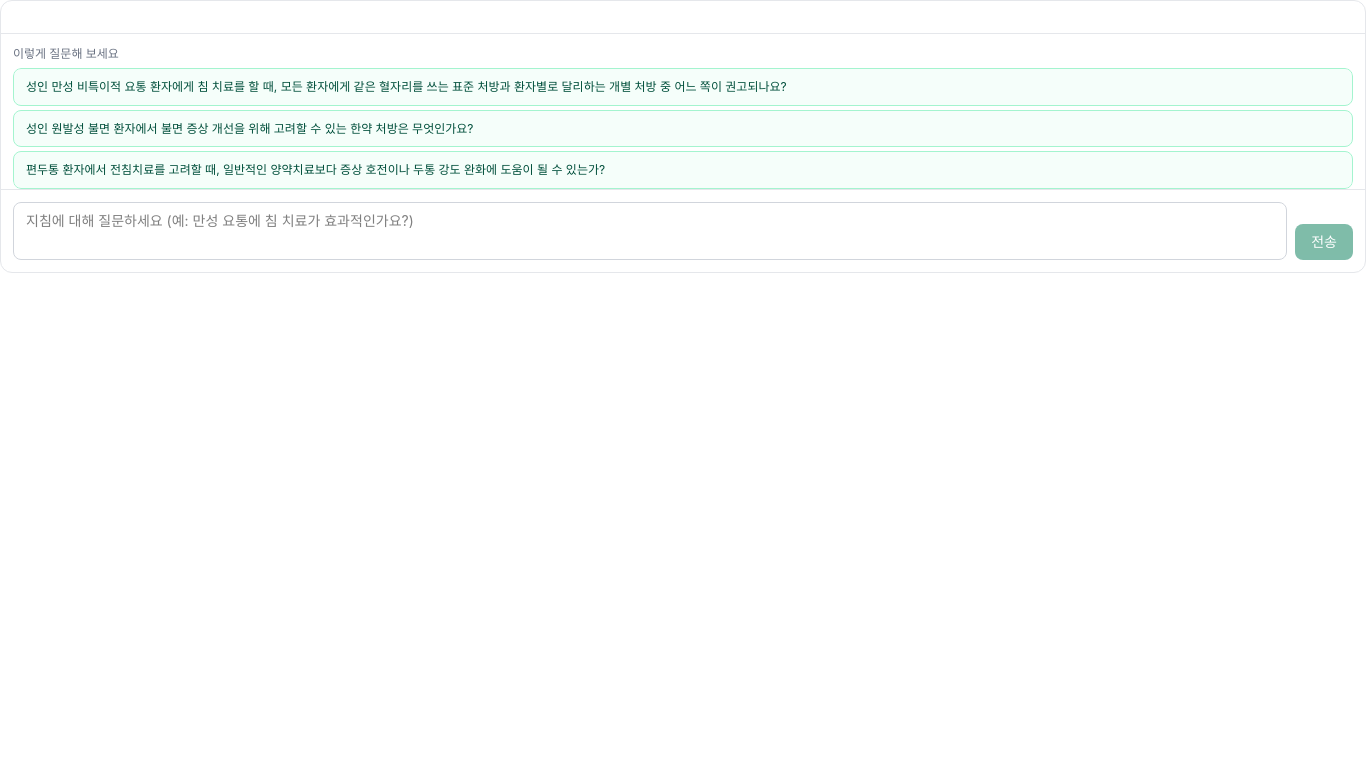
Test: 49: GUIDELINE_QA 스트림 카드의 검토를 해당 guidance.id 경로와 선택한 본문으로 POST한다
This screenshot has width=1366, height=768.
Expected: the text "이렇게 질문해 보세요" is shown, [13, 46, 119, 61]
Step 1. Type "합성진단-54a 기록의 검토 항목을 정리해 주세요." into the text box named "질문 입력" → [650, 230], box [13, 202, 1287, 260]
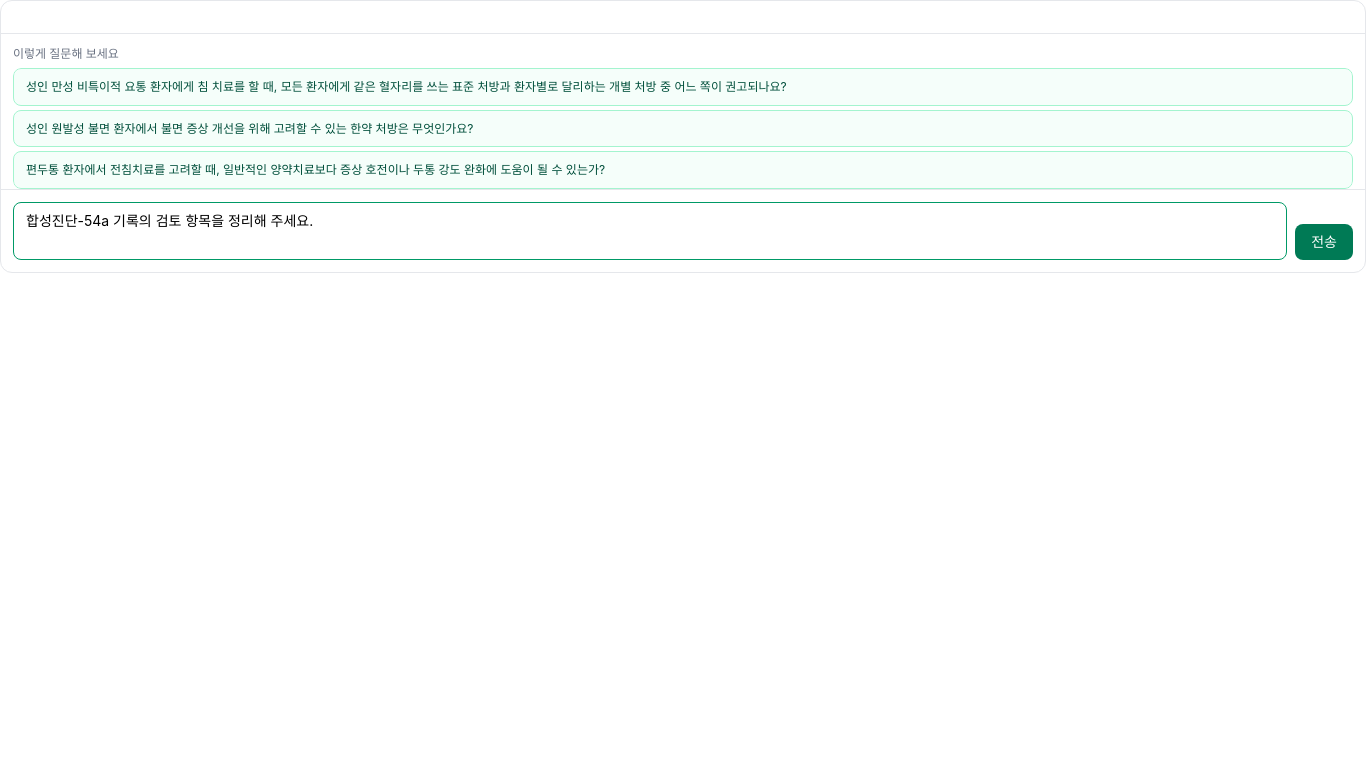
Step 2. Click the button "전송" → [1324, 242], box [1295, 224, 1353, 260]
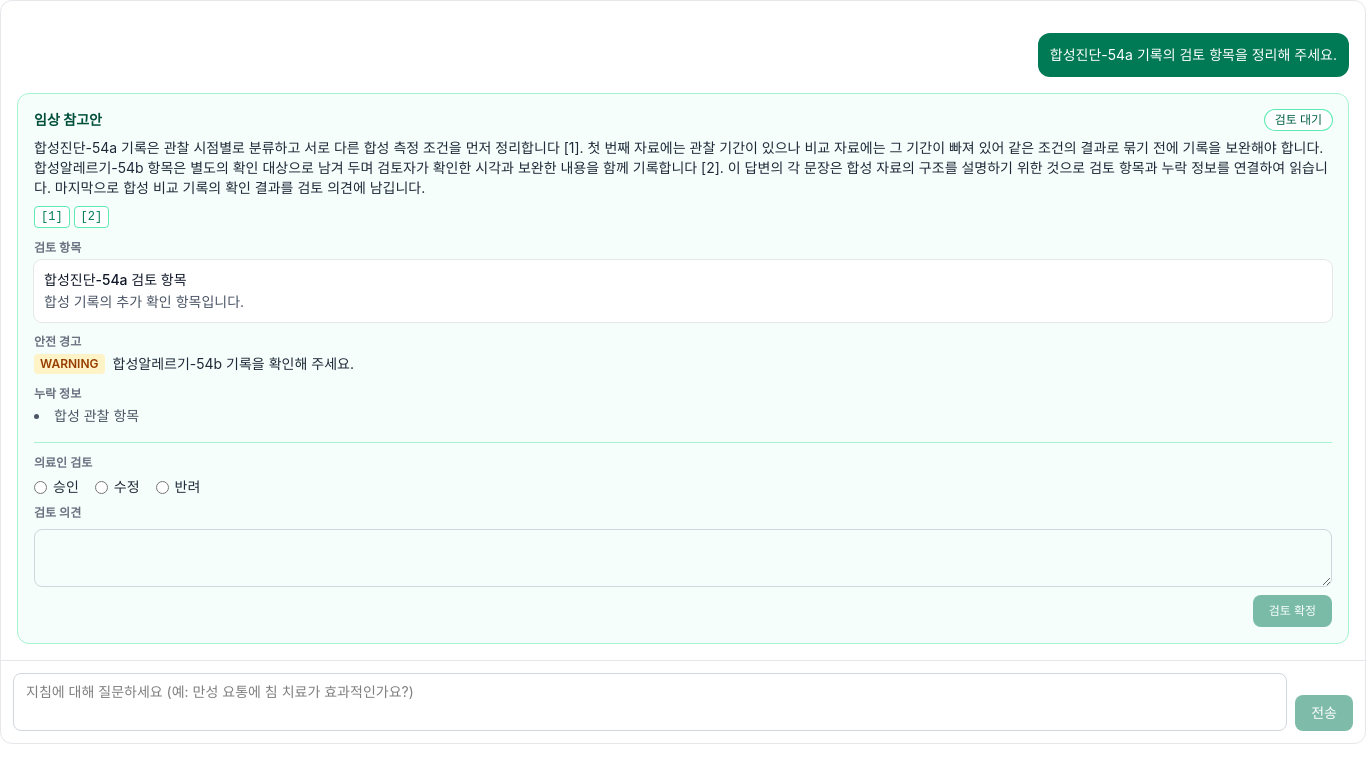
Now the heading "임상 참고안" is shown, box [34, 110, 102, 130]
Now the text "합성진단-54a 기록은 관찰 시점별로 분류하고 서로 다른 합성 측정 조건을 먼저 정리합니다 [1]. 첫 번째 자료에는 관찰 기간이 있으나 비교 자료에는 그 기간이 빠져 있어 같은 조건의 결과로 묶기 전에 기록을 보완" is shown, box [34, 139, 1328, 196]
Step 3. Click the radio button with aria-label "MODIFIED" → [101, 487], box [95, 480, 108, 494]
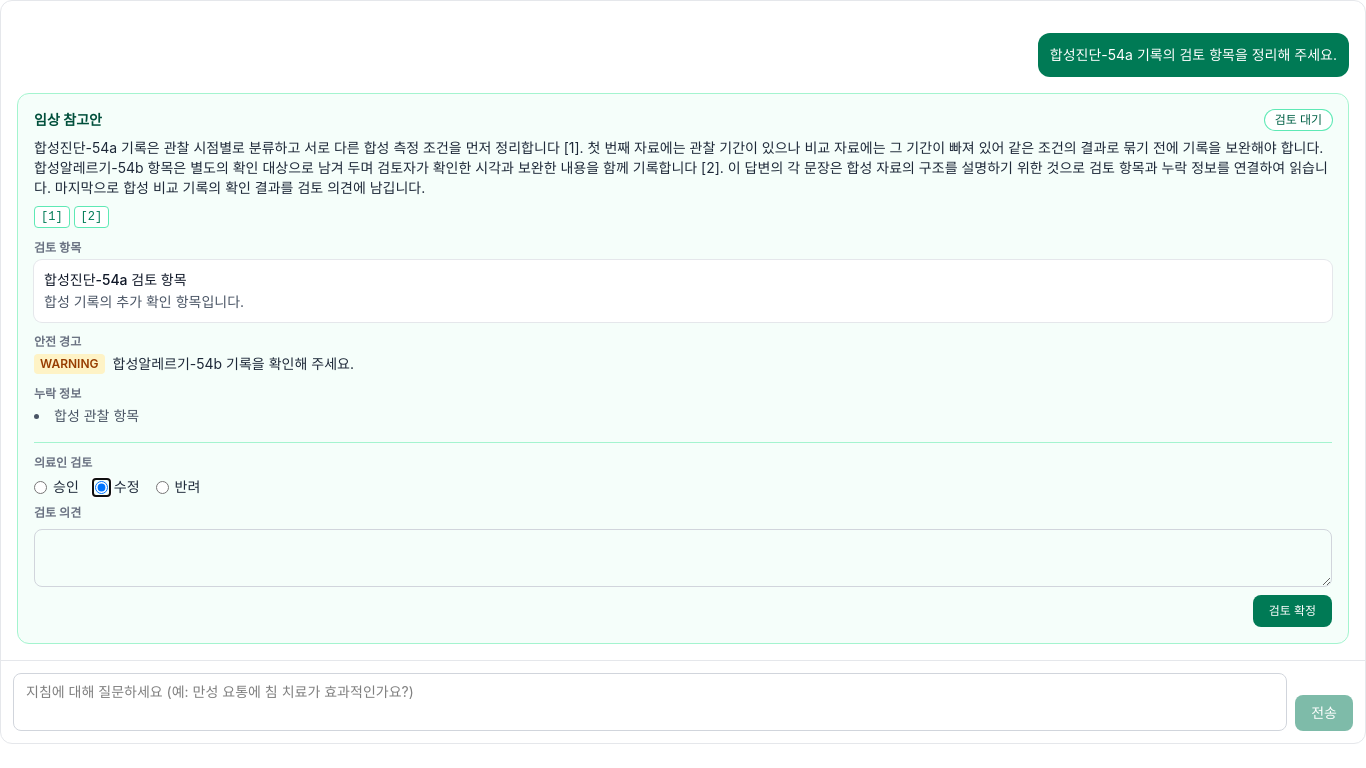
Step 4. Type "합성 관찰 항목을 추가하여 검토했습니다." into the text box labelled "검토 의견" → [683, 558], box [34, 529, 1332, 587]
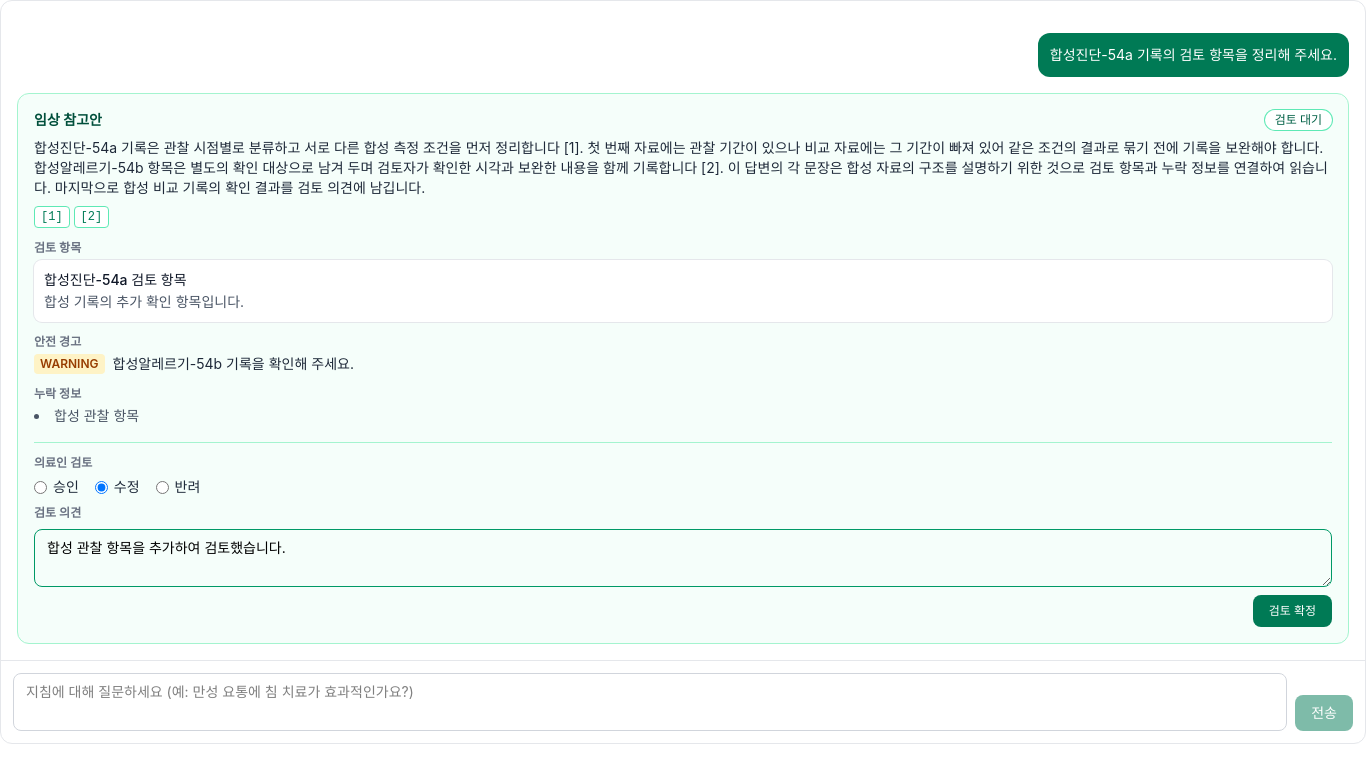
Step 5. Click the button "검토 확정" → [1292, 611], box [1253, 595, 1332, 627]
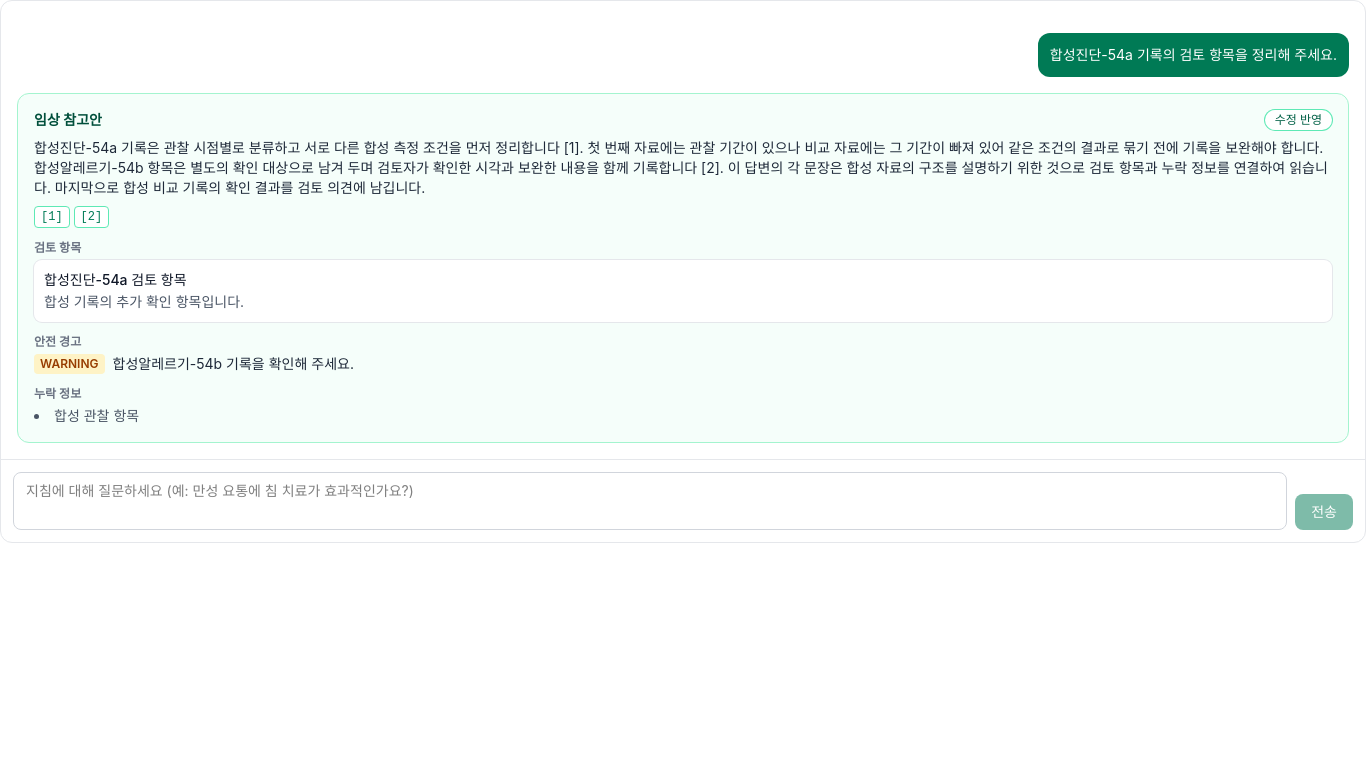
Now the text "수정 반영" is shown, box [1265, 110, 1332, 130]
